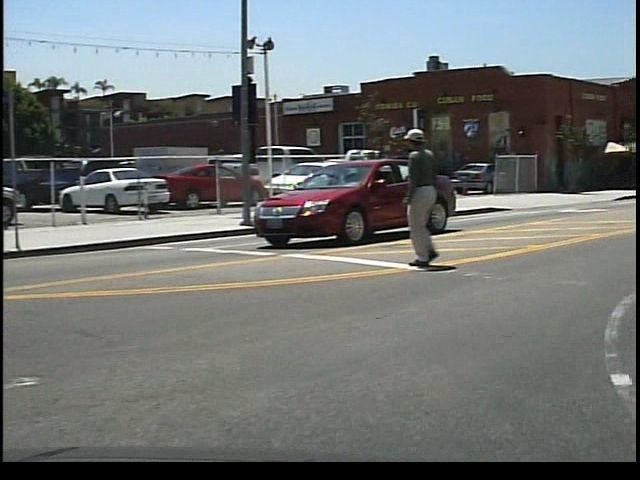person: (401, 119, 469, 275)
